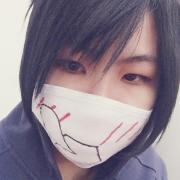OK: (33, 31, 164, 162)
